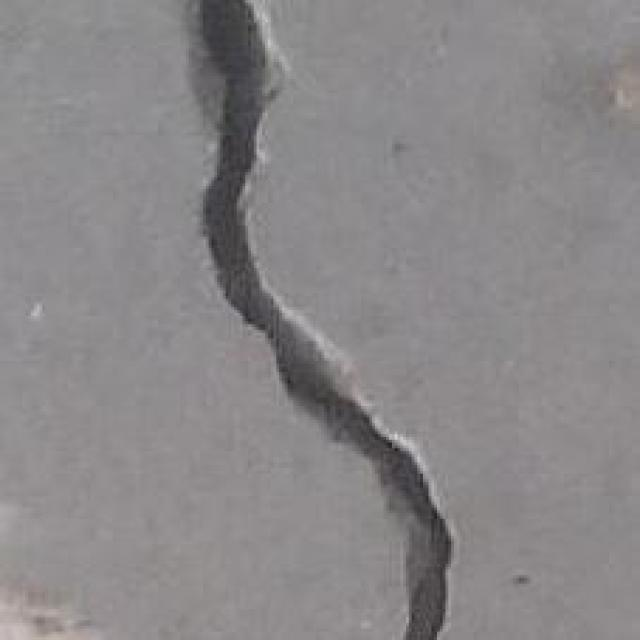Longitudinal: (140, 0, 498, 640)
